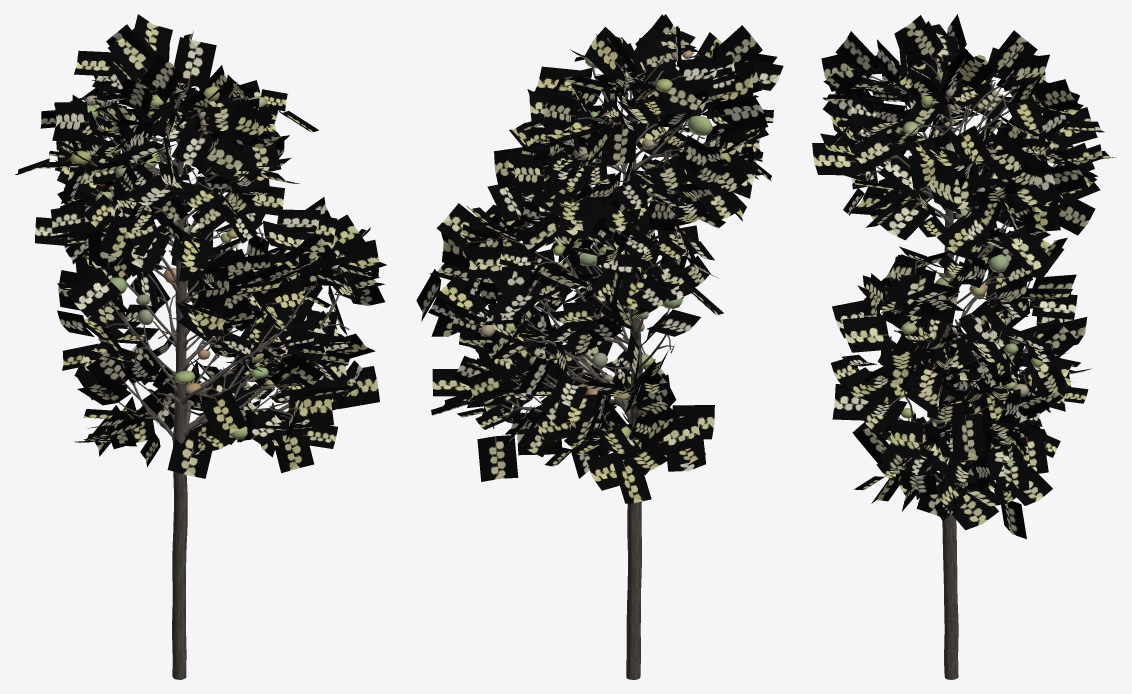
Rendered from tree_05_ginkgo_young.glb.
3 views of the same model, side by side, from view 1: azimuth 30°, elevation 25°; view 2: azimuth 150°, elevation 25°; view 3: azimuth 270°, elevation 25° (orthographic).
Parts seen in each view (by area): view 1: tree_05_ginkgo_young.leaves, tree_05_ginkgo_young.trunk_branches, tree_05_ginkgo_young.foliage_volume; view 2: tree_05_ginkgo_young.leaves, tree_05_ginkgo_young.trunk_branches, tree_05_ginkgo_young.foliage_volume; view 3: tree_05_ginkgo_young.leaves, tree_05_ginkgo_young.trunk_branches, tree_05_ginkgo_young.foliage_volume.
Boxes of the visible parts, x1,y1,x2,y2 form: tree_05_ginkgo_young.leaves: (15, 14, 386, 478); tree_05_ginkgo_young.trunk_branches: (66, 78, 349, 679); tree_05_ginkgo_young.foliage_volume: (70, 86, 274, 439); tree_05_ginkgo_young.leaves: (416, 14, 783, 503); tree_05_ginkgo_young.trunk_branches: (468, 47, 716, 679); tree_05_ginkgo_young.foliage_volume: (479, 50, 730, 438); tree_05_ginkgo_young.leaves: (812, 14, 1116, 539); tree_05_ginkgo_young.trunk_branches: (862, 57, 1061, 679); tree_05_ginkgo_young.foliage_volume: (861, 55, 1042, 466).
Size of the model in its own units: 6.5 by 11.53 by 4.99.
Materials: 3 (2 with a texture image).
